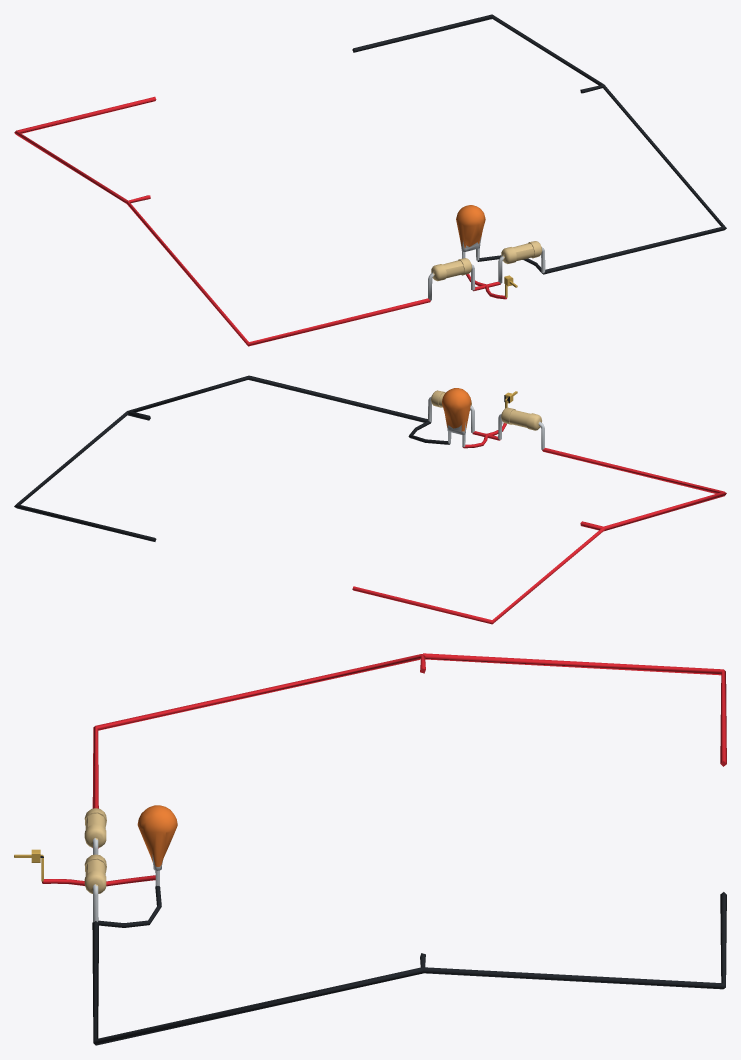
The model's file is AFR2_Sensor_Bateria.glb.
3 renders of one model, top to bottom at view 1: azimuth 30°, elevation 25°; view 2: azimuth 150°, elevation 25°; view 3: azimuth 270°, elevation 25°, orthographic. The views are drawn at different scales.
Parts seen in each view (by area): view 1: battery-divider-wires.001; view 2: battery-divider-wires.001; view 3: battery-divider-wires.001.
Part boxes in pixels (x1,y1,x2,y2): battery-divider-wires.001: [14, 14, 726, 346]; battery-divider-wires.001: [14, 375, 726, 624]; battery-divider-wires.001: [14, 653, 726, 1045].
Bounding box in the file's own units: 0.0848 × 0.0107 × 0.0806.
